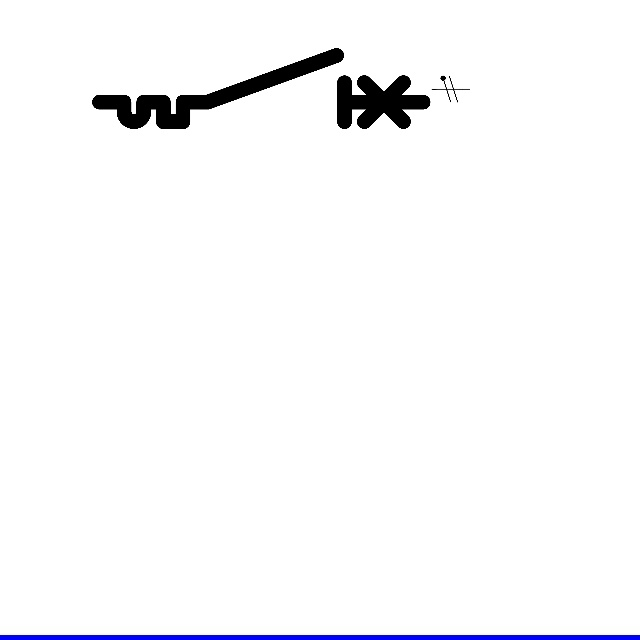interruptor_termomagnetico: (91, 47, 431, 130)
